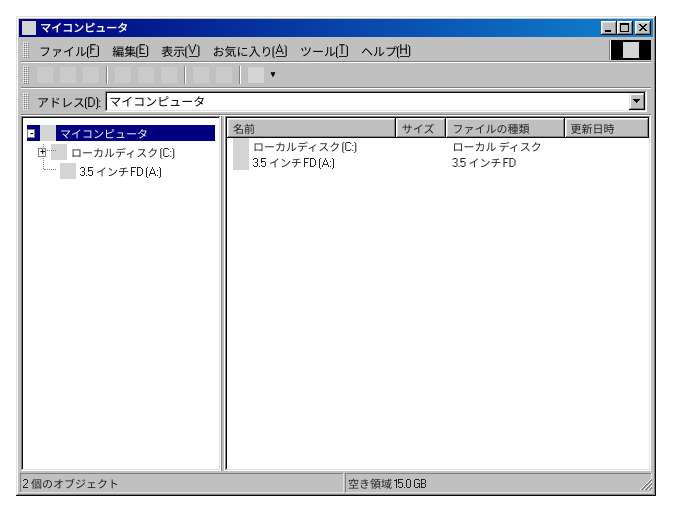
Scenario: FileExplorer › shows checked menu items for view modes in the 表示 menu
The width and height of the screenshot is (673, 513).
Click the menu item "表示( V )".
click(181, 50)  # box [161, 43, 201, 58]
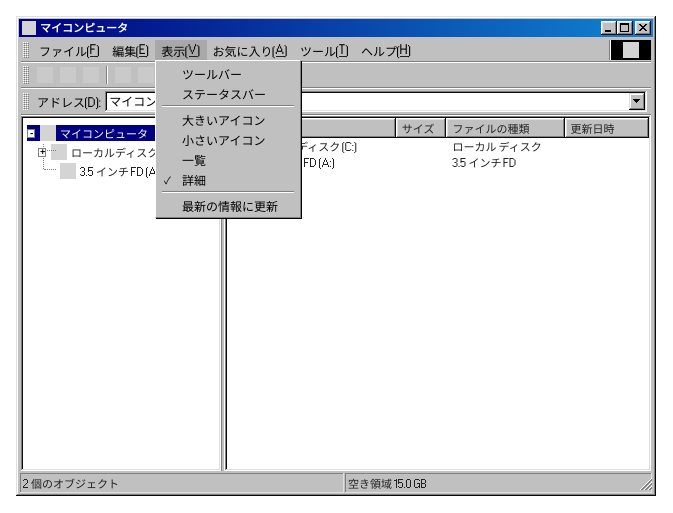
Expected: the menu item "大きいアイコン" is shown, [182, 114, 266, 126]
Expected: the menu item "小さいアイコン" is shown, [182, 134, 266, 146]
Expected: the menu item "一覧" is shown, [182, 154, 206, 166]
